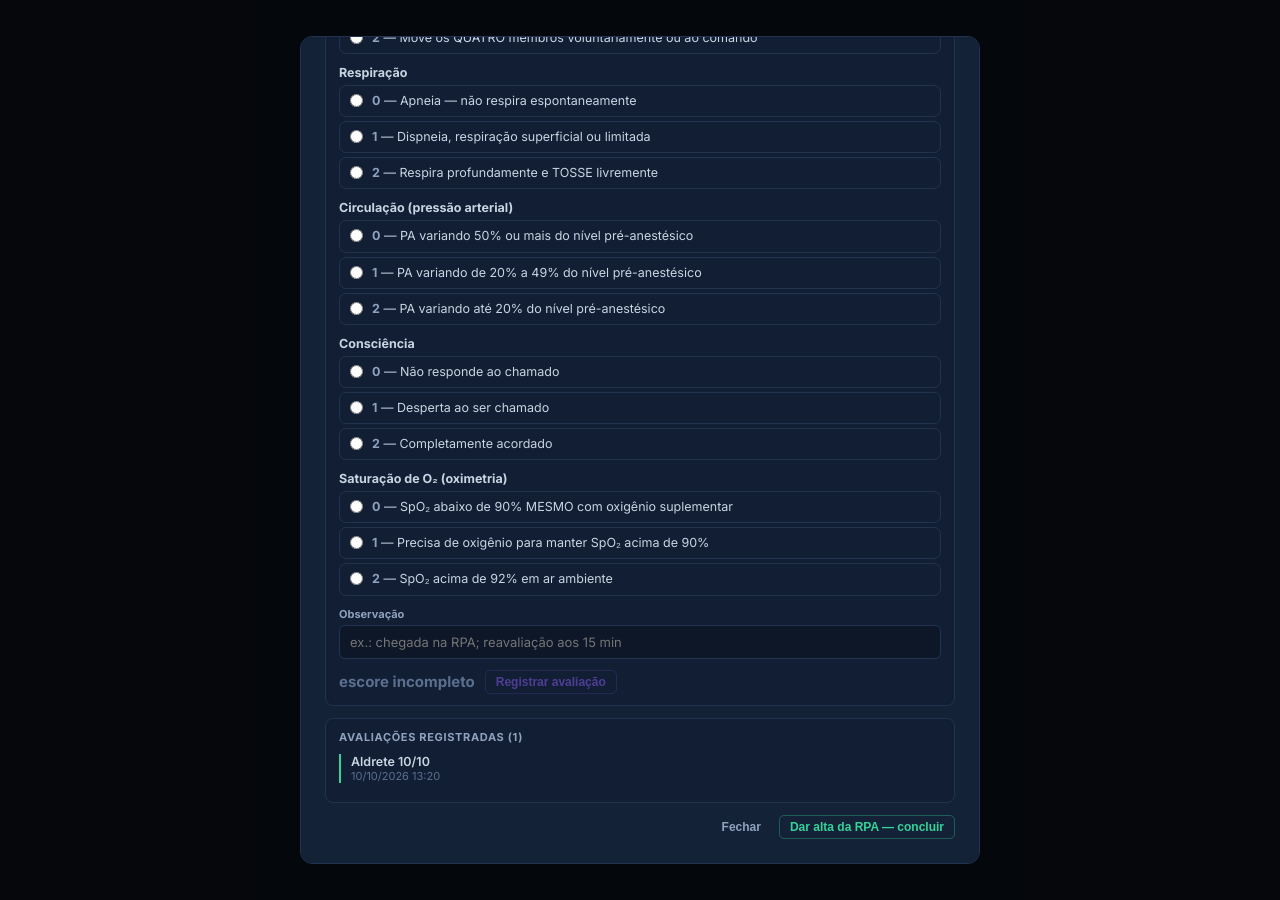
Test: 🔴 o modal da recuperação › a recusa do banco aparece e o modal NÃO fecha
(page scrolled)
Click the button "Dar alta da RPA — concluir" at (867, 826), box x1=779 y1=814 x2=955 y2=838
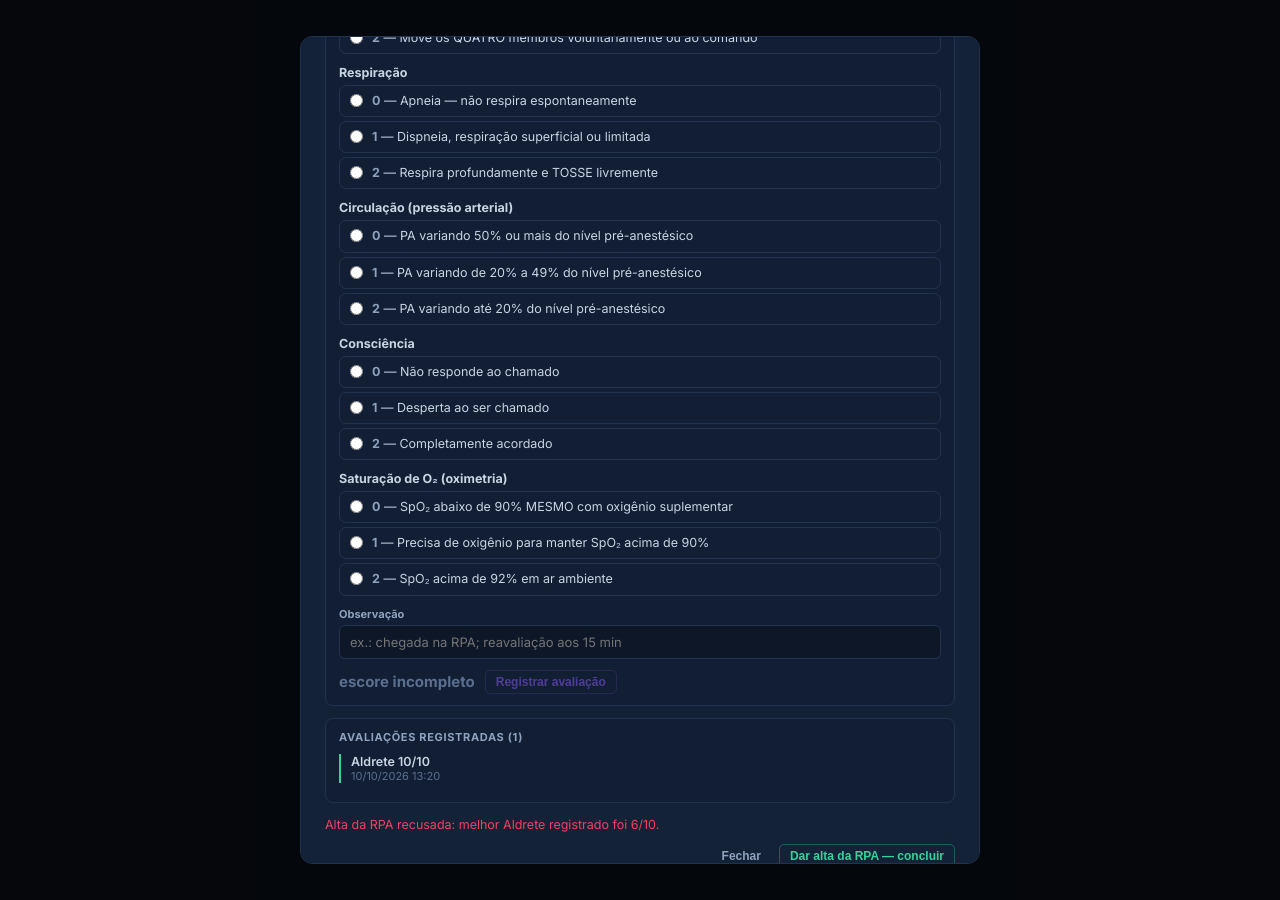
Now the text "Alta da RPA recusada: melhor Aldrete registrado foi 6/10." is shown, box x1=325 y1=816 x2=659 y2=832
